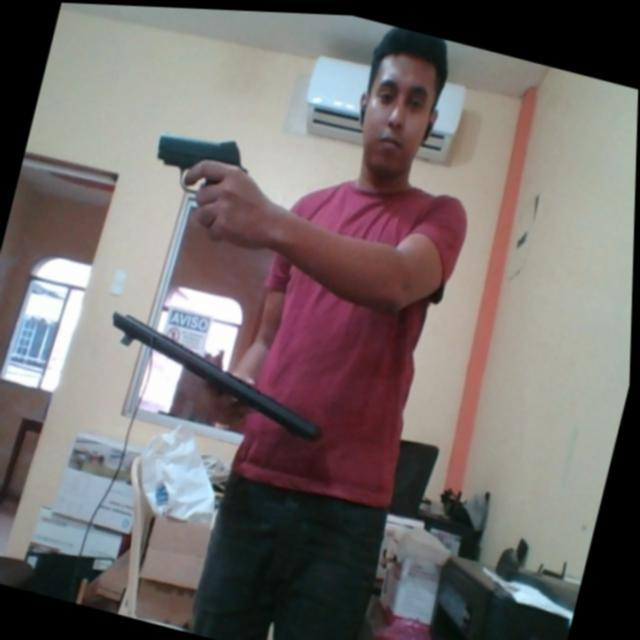weapon: (144, 116, 257, 205)
